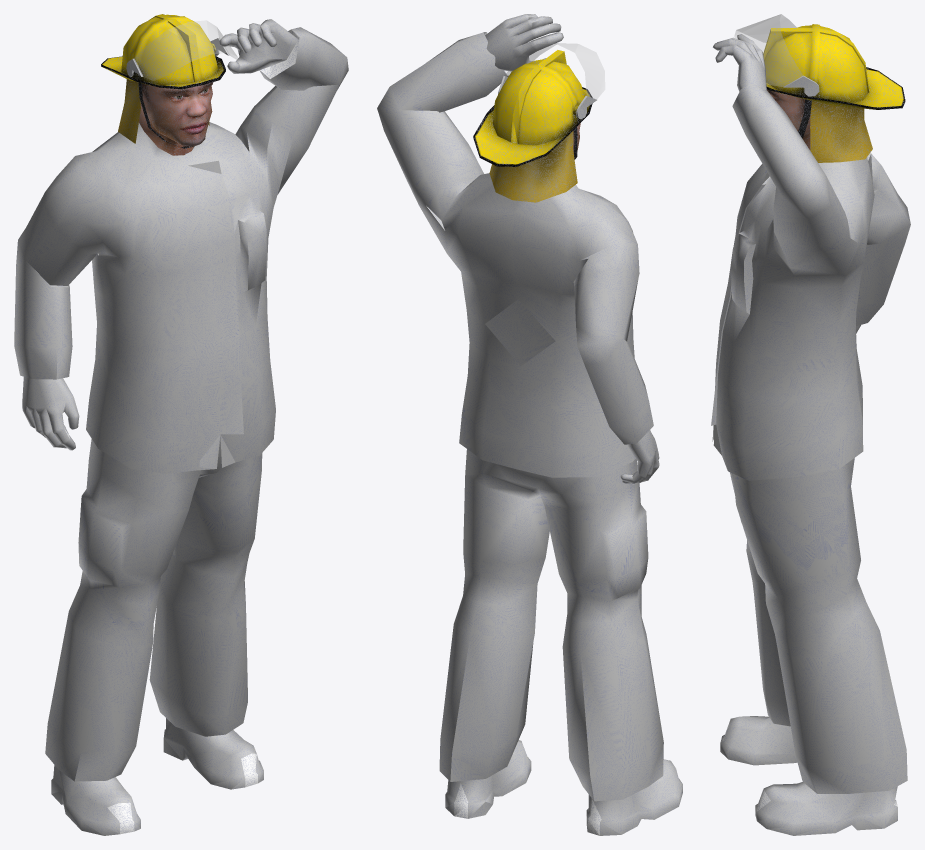
3 views of the same model, side by side, from view 1: azimuth 30°, elevation 25°; view 2: azimuth 150°, elevation 25°; view 3: azimuth 270°, elevation 25° (orthographic). The views are drawn at different scales.
Visible parts, largest first — view 1: fireman (×7); view 2: fireman (×6); view 3: fireman (×7).
Boxes of the visible parts, left/top/right/bottom form: fireman (×7): left=14, top=14, right=348, bottom=835; fireman (×6): left=377, top=14, right=682, bottom=835; fireman (×7): left=711, top=14, right=910, bottom=835.
Size of the model in its own units: 30.33 by 17.21 by 74.04.
